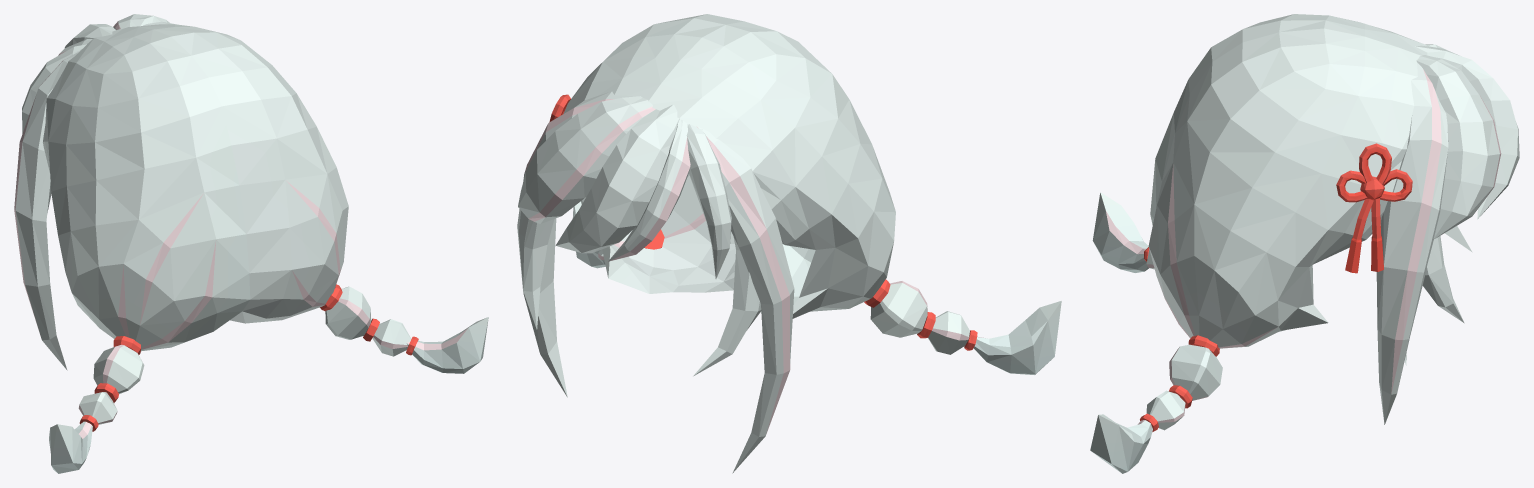
File: CharSkyKid_Hair_KizunaAi_Red.glb
3 views of the same model, side by side, from view 1: azimuth 30°, elevation 25°; view 2: azimuth 150°, elevation 25°; view 3: azimuth 270°, elevation 25° (orthographic). The views are drawn at different scales.
Visible parts, largest first — view 1: CharSkyKid_Hair_KizunaAi_Red; view 2: CharSkyKid_Hair_KizunaAi_Red; view 3: CharSkyKid_Hair_KizunaAi_Red.
Part boxes in pixels (x1=…): CharSkyKid_Hair_KizunaAi_Red: x1=14, y1=14, x2=488, y2=473; CharSkyKid_Hair_KizunaAi_Red: x1=517, y1=14, x2=1061, y2=473; CharSkyKid_Hair_KizunaAi_Red: x1=1090, y1=14, x2=1519, y2=473.
Size of the model in its own units: 4.65 by 3.57 by 3.73.
Materials: 1 (1 with a texture image).
